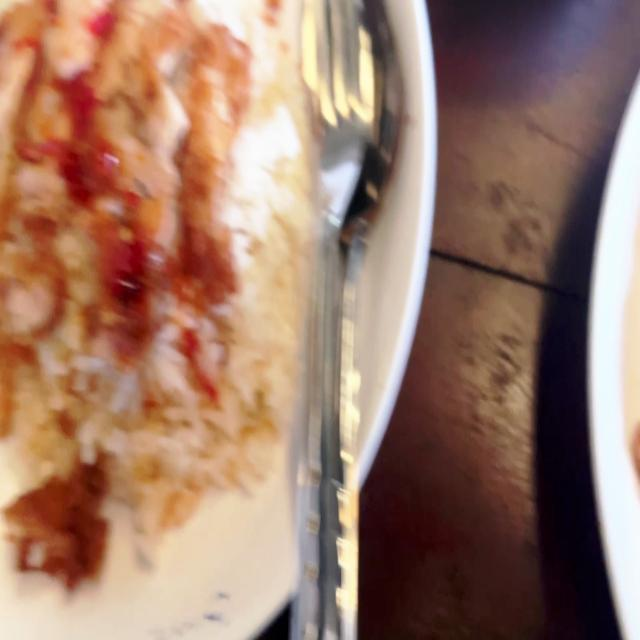chicken_rice: (0, 0, 319, 597)
fried_chicken: (0, 0, 241, 327), (0, 456, 110, 588)
